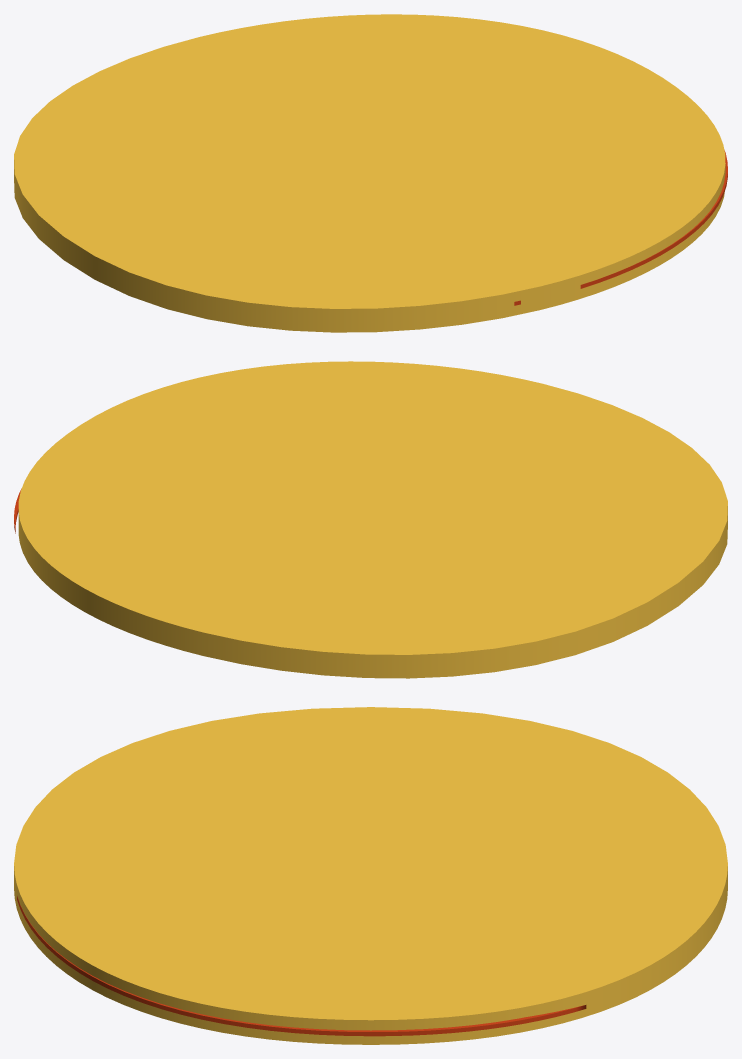
Rendered from emoji_u1f621.glb.
3 views of the same model, one above another, from view 1: azimuth 30°, elevation 25°; view 2: azimuth 150°, elevation 25°; view 3: azimuth 270°, elevation 25° (orthographic). The views are drawn at different scales.
Parts seen in each view (by area): view 1: emoji_u1f621; view 2: emoji_u1f621; view 3: emoji_u1f621.
Boxes of the visible parts, x1,y1,x2,y2 form: emoji_u1f621: (14, 14, 727, 332); emoji_u1f621: (14, 361, 727, 678); emoji_u1f621: (14, 707, 727, 1044).
Size of the model in its own units: 0.0327 by 0.0012 by 0.0314.
